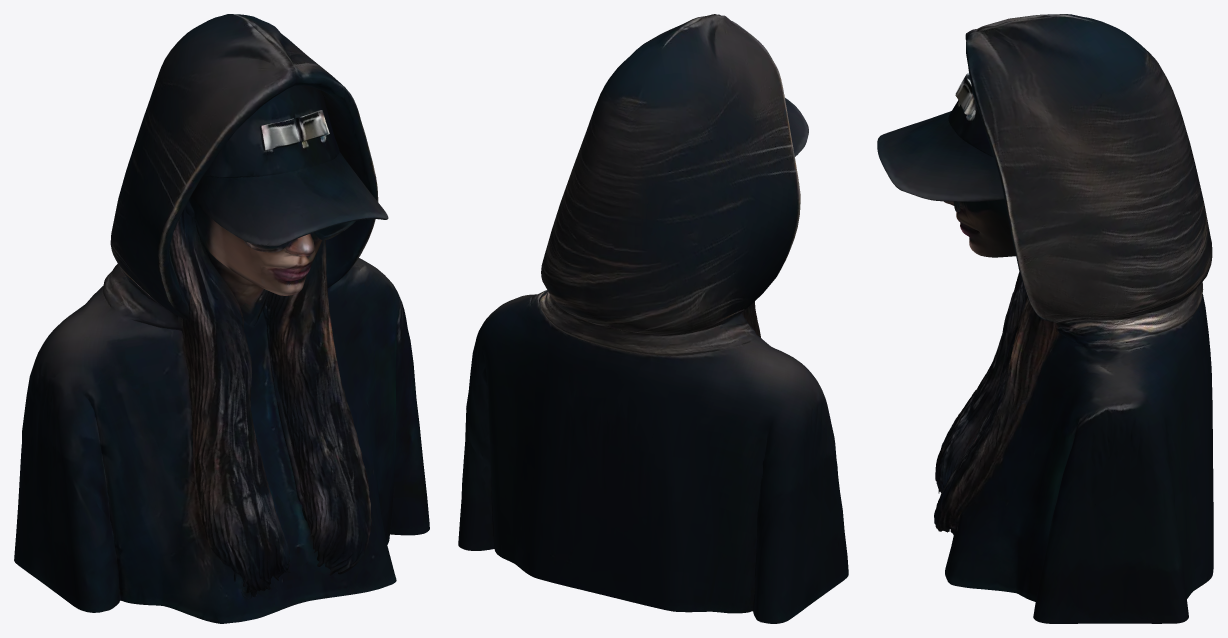
The model's file is rodin-head.glb.
The picture shows the model from 3 angles, left to right: view 1: azimuth 30°, elevation 25°; view 2: azimuth 150°, elevation 25°; view 3: azimuth 270°, elevation 25°; orthographic projection. The views are drawn at different scales.
Visible parts, largest first — view 1: model; view 2: model; view 3: model.
Boxes of the visible parts, box(x1,y1,x2,y2) form: model: box(14, 14, 429, 623); model: box(458, 14, 848, 623); model: box(877, 14, 1213, 623).
Bounding box in the file's own units: 1.24 × 1.84 × 1.07.
Materials: 1 (1 with a texture image).
